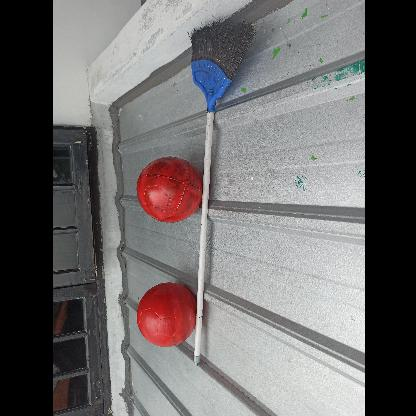red_ball: (136, 156, 202, 224), (132, 282, 198, 348)
